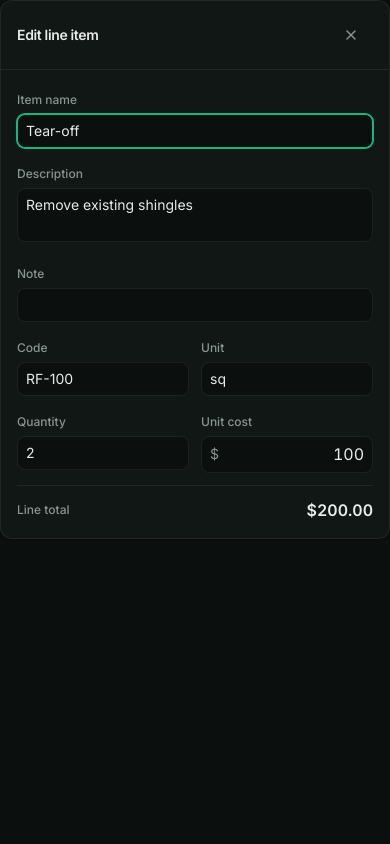
it: LineItemEditorPanel › commits a parsed quantity on blur and reverts a non-numeric one
This screenshot has width=390, height=844.
Replace the text in the field with test id "editor-field-quantity" with "5" at (103, 453), box [17,436,189,470]
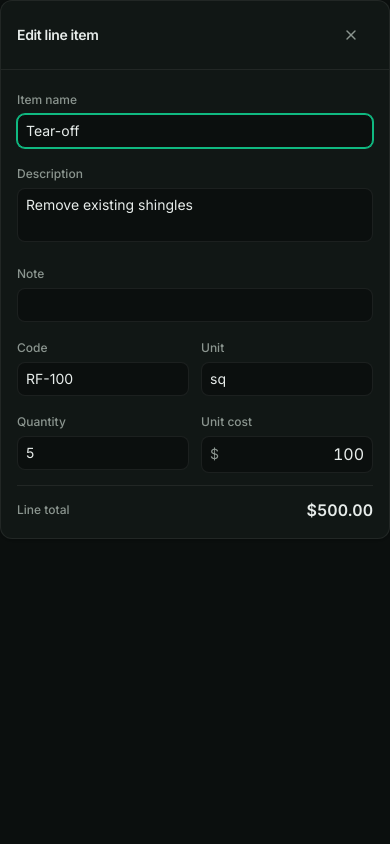
# Non-numeric → revert, no commit.
Replace the text in the field with test id "editor-field-quantity" with "abc" at (103, 453), box [17,436,189,470]
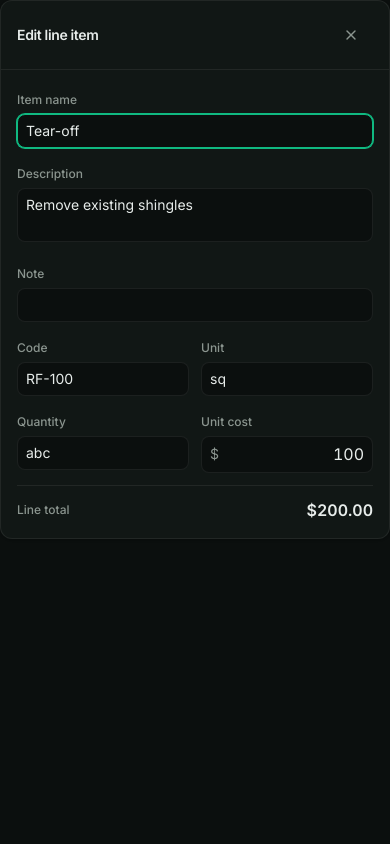
Leave the field with test id "editor-field-quantity", box [17,436,189,470]
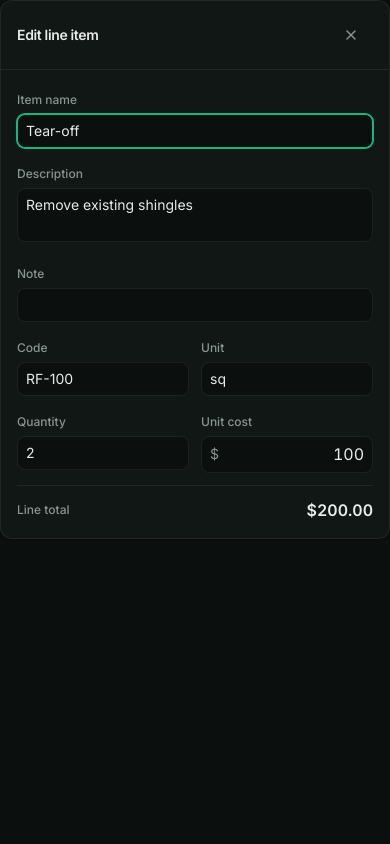
Result: the field with test id "editor-field-quantity" holds "2" at [17,436,189,470]
